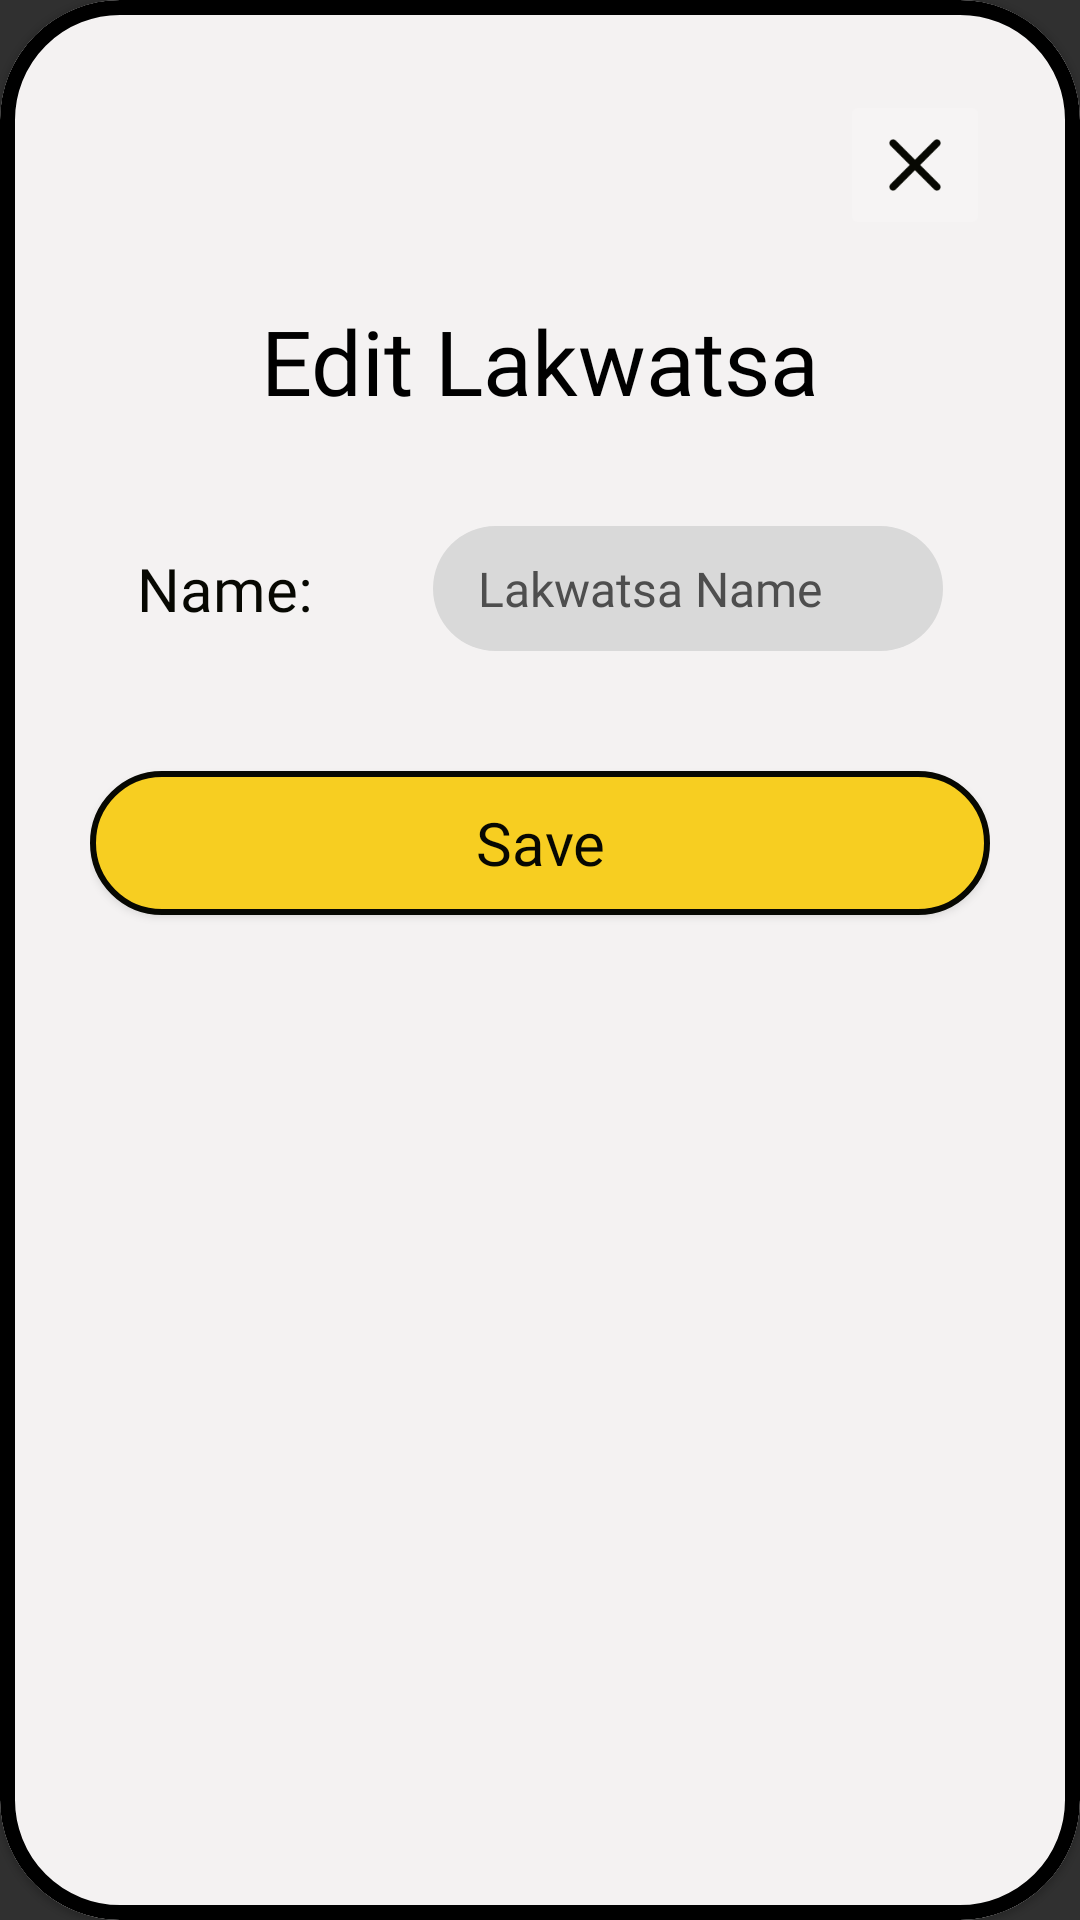

Where to tap for icons on this 1080x1920 app screen, as (x=x, y=y):
close: (x=915, y=165)
